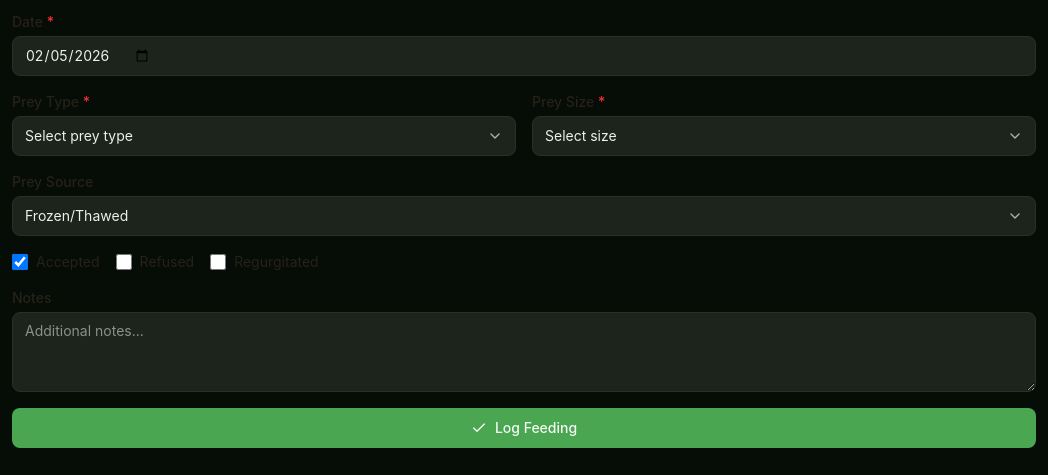
Test: FeedingForm › prey options › should display all prey size options
Click the dropdown labelled "Select size" at [581, 136], box [532,116,1036,156]
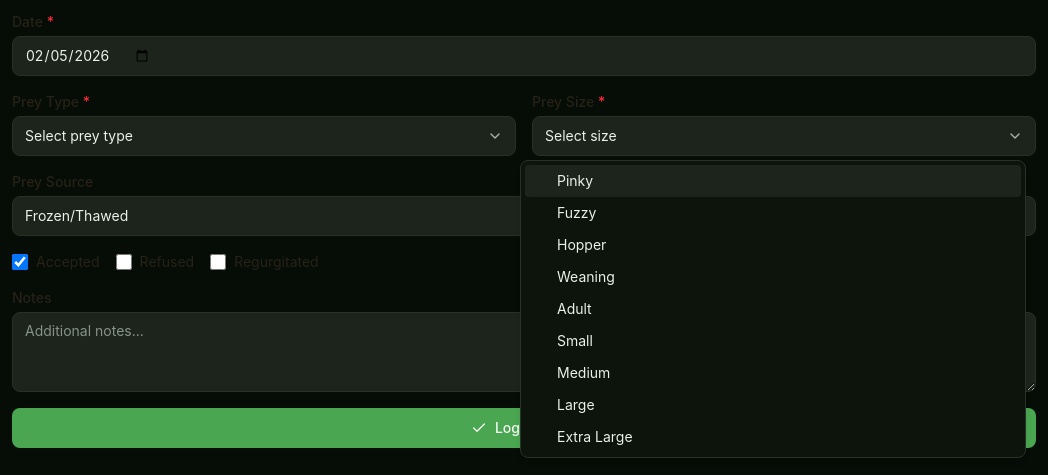
Check: the option "Pinky" is shown, box [525,165,1021,197]
Check: the option "Fuzzy" is shown, box [557,204,596,221]
Check: the option "Hopper" is shown, box [557,236,606,253]
